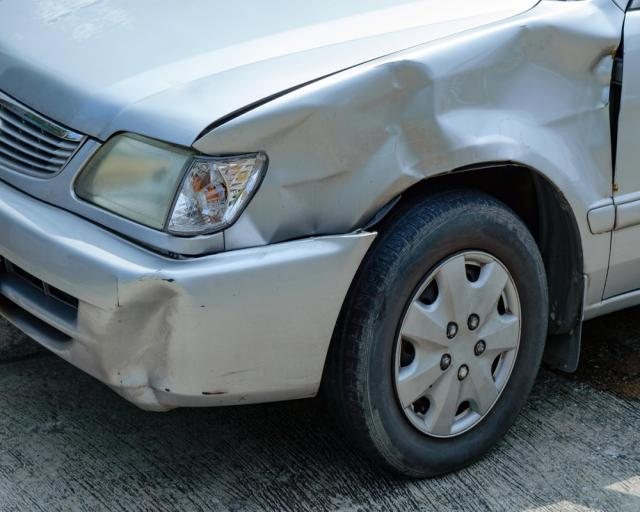dent: (208, 25, 618, 244), (103, 277, 199, 409)
